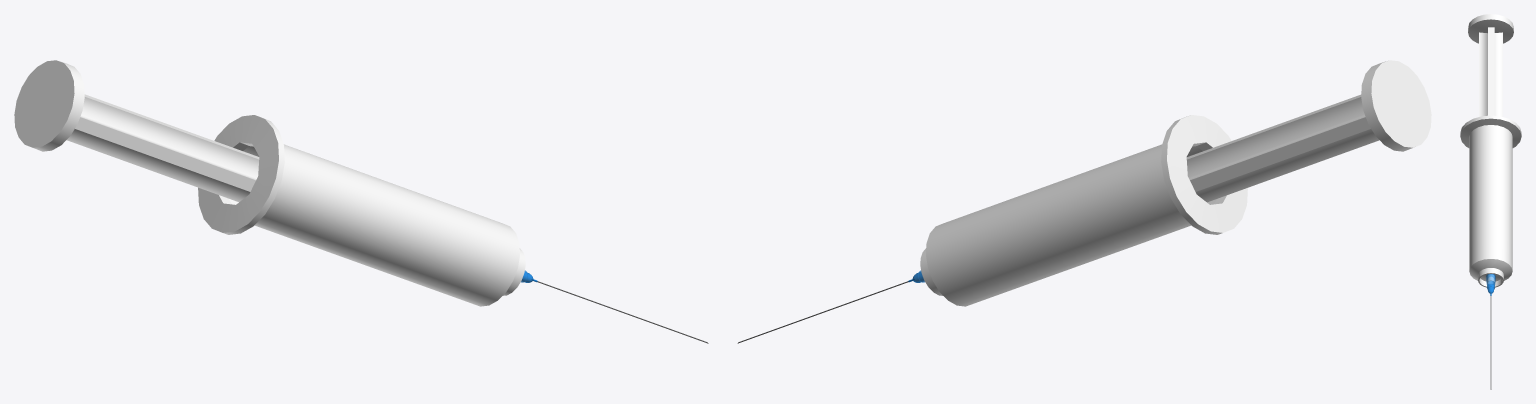
Rendered from Jeringa 1.fbx.
3 renders of one model, left to right at view 1: azimuth 30°, elevation 25°; view 2: azimuth 150°, elevation 25°; view 3: azimuth 270°, elevation 25°, orthographic. The views are drawn at different scales.
Parts seen in each view (by area): view 1: polySurface12; view 2: polySurface12; view 3: polySurface12.
Boxes of the visible parts, left/top/right/bottom form: polySurface12: left=14, top=60, right=708, bottom=343; polySurface12: left=737, top=60, right=1431, bottom=343; polySurface12: left=1460, top=14, right=1521, bottom=389.
Size of the model in its own units: 1.67 by 1.02 by 0.2608.
